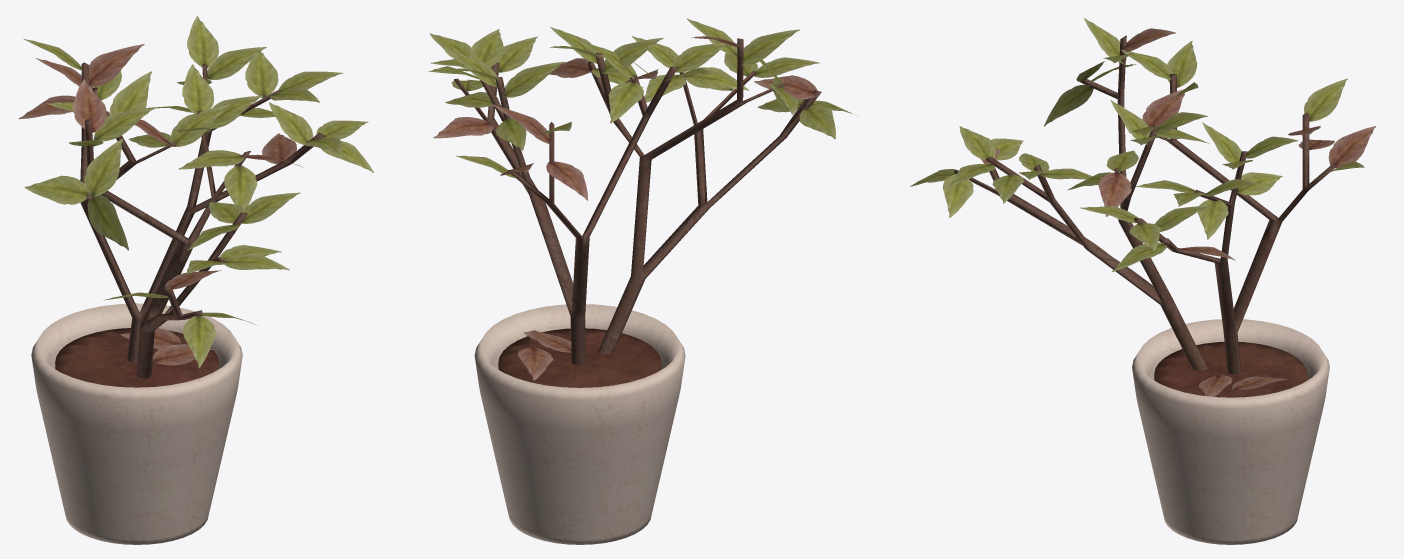
File: plante mid.FBX
3 views of the same model, side by side, from view 1: azimuth 30°, elevation 25°; view 2: azimuth 150°, elevation 25°; view 3: azimuth 270°, elevation 25° (orthographic). The views are drawn at different scales.
Parts seen in each view (by area): view 1: plante mid; view 2: plante mid; view 3: plante mid.
Part boxes in pixels (bbox=[...]): plante mid: bbox=[18, 16, 373, 544]; plante mid: bbox=[428, 18, 853, 544]; plante mid: bbox=[910, 18, 1376, 544].
Size of the model in its own units: 0.718 by 0.9013 by 0.8808.
